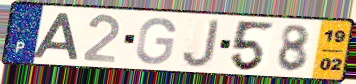2: (81, 13, 123, 65)
5: (228, 19, 278, 72)
8: (277, 23, 313, 74)
A: (30, 11, 80, 61)
G: (134, 16, 178, 66)
J: (180, 18, 221, 69)
